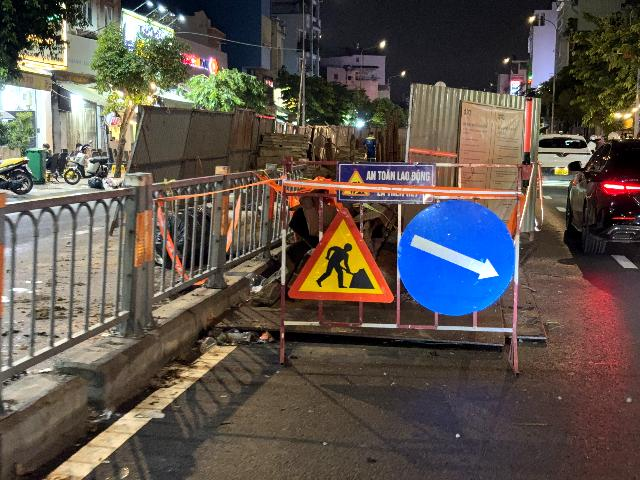cong-truong-dang-thi-cong: (288, 207, 394, 302)
huong-phai-di-vong-chuong-ngai-vat: (396, 199, 515, 315)
